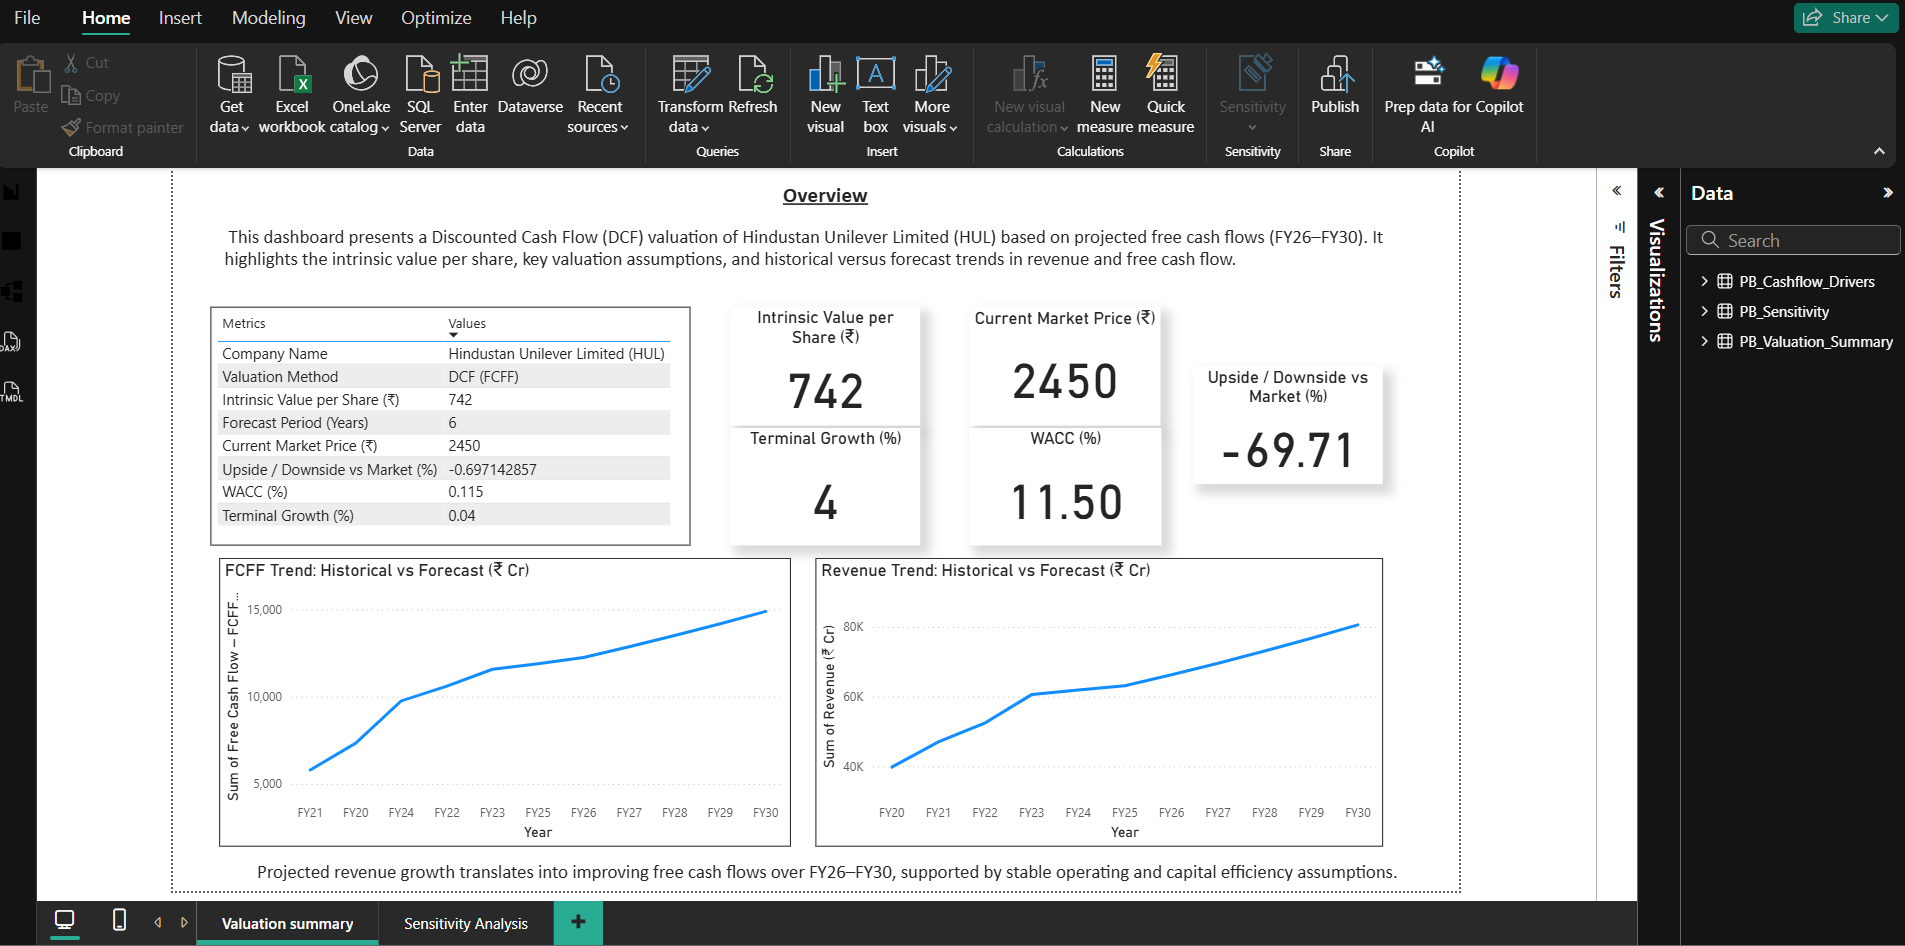

What the dashboard file says about the page in this screenshot:
{"tool":"powerbi","page":{"name":"Valuation summary","canvas":[1280,720],"ordinal":0},"visuals":[{"type":"tableEx","fields":{"Values":["PB_Valuation_Summary.Metrics","PB_Valuation_Summary.Values"]},"box":[37.3,138.1,477.7,237.6],"z":0},{"type":"card","title":"Intrinsic Value per Share (₹)","fields":{"Values":["Min(PB_Valuation_Summary.Values)"]},"box":[554.8,138.1,189.1,118.2],"z":1000},{"type":"card","title":"Current Market Price (₹)","fields":{"Values":["Min(PB_Valuation_Summary.Values)"]},"box":[792.4,138.1,190.3,118.2],"z":2000},{"type":"card","title":"Upside / Downside vs Market (%)","fields":{"Values":["select","PB_Valuation_Summary.Upside %"]},"box":[1015.1,197.8,189.1,116.9],"z":3000},{"type":"card","title":"WACC (%)","fields":{"Values":["PB_Valuation_Summary.WACC Display"]},"box":[792.4,258.7,191.6,116.9],"z":4000},{"type":"card","title":"Terminal Growth (%)","fields":{"Values":["PB_Valuation_Summary.terminal %"]},"box":[554.8,258.7,189.1,116.9],"z":5000},{"type":"lineChart","title":"FCFF Trend: Historical vs Forecast (₹ Cr)","fields":{"Category":["PB_Cashflow_Drivers.Year"],"Y":["Sum(PB_Cashflow_Drivers.Free Cash Flow – FCFF (₹ Cr))"]},"box":[46,388.1,568.5,287.4],"z":6000},{"type":"lineChart","title":"Revenue Trend: Historical vs Forecast (₹ Cr)","fields":{"Category":["PB_Cashflow_Drivers.Year"],"Y":["Sum(PB_Cashflow_Drivers.Revenue (₹ Cr))"]},"box":[639.4,388.1,564.8,287.4],"z":7000},{"type":"textbox","box":[46,8.7,1206.6,114.4],"z":8000},{"type":"textbox","box":[49.8,684.2,1202.9,36.1],"z":9000}]}

Visuals, with their boxes on the page's 1280x720 design canvas (x1, y1, x2, y2). These are canvas units, not pixel positions in the 1905x946 screenshot, which may show the page scaled, cropped or inside an application window:
tableEx - PB_Valuation_Summary.Metrics x PB_Valuation_Summary.Values: x1=37, y1=138, x2=515, y2=376
"Intrinsic Value per Share (₹)" card: x1=555, y1=138, x2=744, y2=256
"Current Market Price (₹)" card: x1=792, y1=138, x2=983, y2=256
"Upside / Downside vs Market (%)" card: x1=1015, y1=198, x2=1204, y2=315
"WACC (%)" card: x1=792, y1=259, x2=984, y2=376
"Terminal Growth (%)" card: x1=555, y1=259, x2=744, y2=376
"FCFF Trend: Historical vs Forecast (₹ Cr)" lineChart: x1=46, y1=388, x2=614, y2=676
"Revenue Trend: Historical vs Forecast (₹ Cr)" lineChart: x1=639, y1=388, x2=1204, y2=676
textbox: x1=46, y1=9, x2=1253, y2=123
textbox: x1=50, y1=684, x2=1253, y2=720
